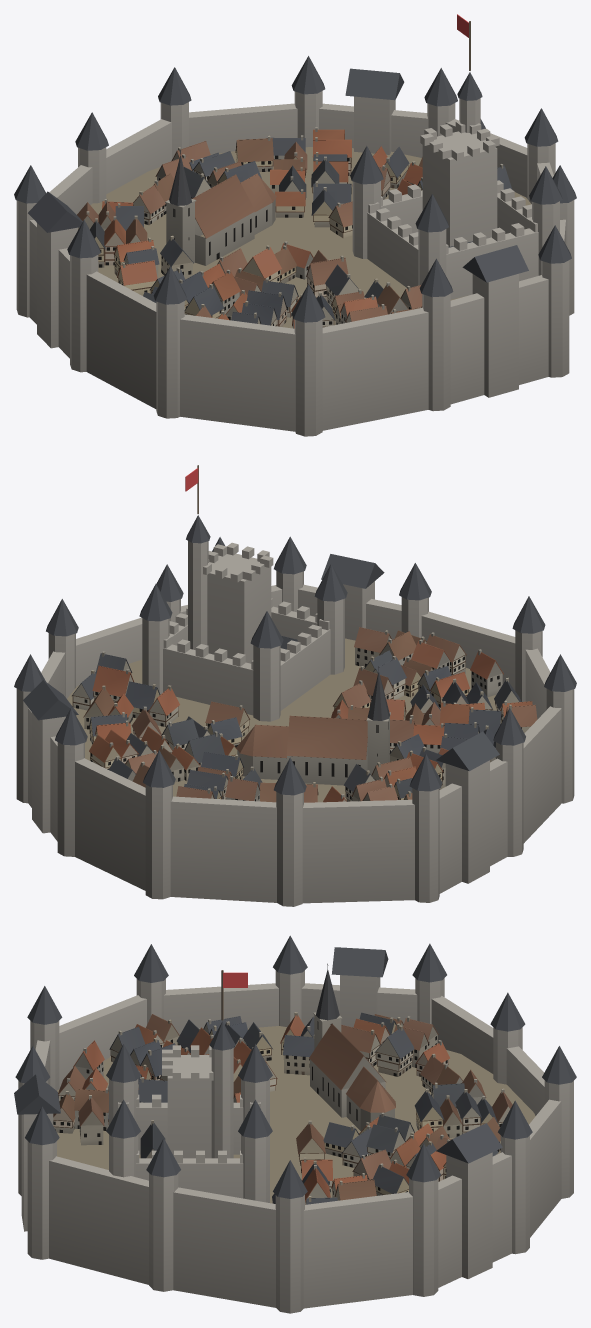
Rendered from castle.glb.
The picture shows the model from 3 angles, top to bottom: view 1: azimuth 30°, elevation 25°; view 2: azimuth 150°, elevation 25°; view 3: azimuth 270°, elevation 25°; orthographic projection. The views are drawn at different scales.
Visible parts, largest first — view 1: castle; view 2: castle; view 3: castle.
Part boxes in pixels (<box>): castle: <box>14,14,576,436</box>; castle: <box>14,465,576,906</box>; castle: <box>14,935,576,1313</box>.
Size of the model in its own units: 3.09 by 1.74 by 3.07.
